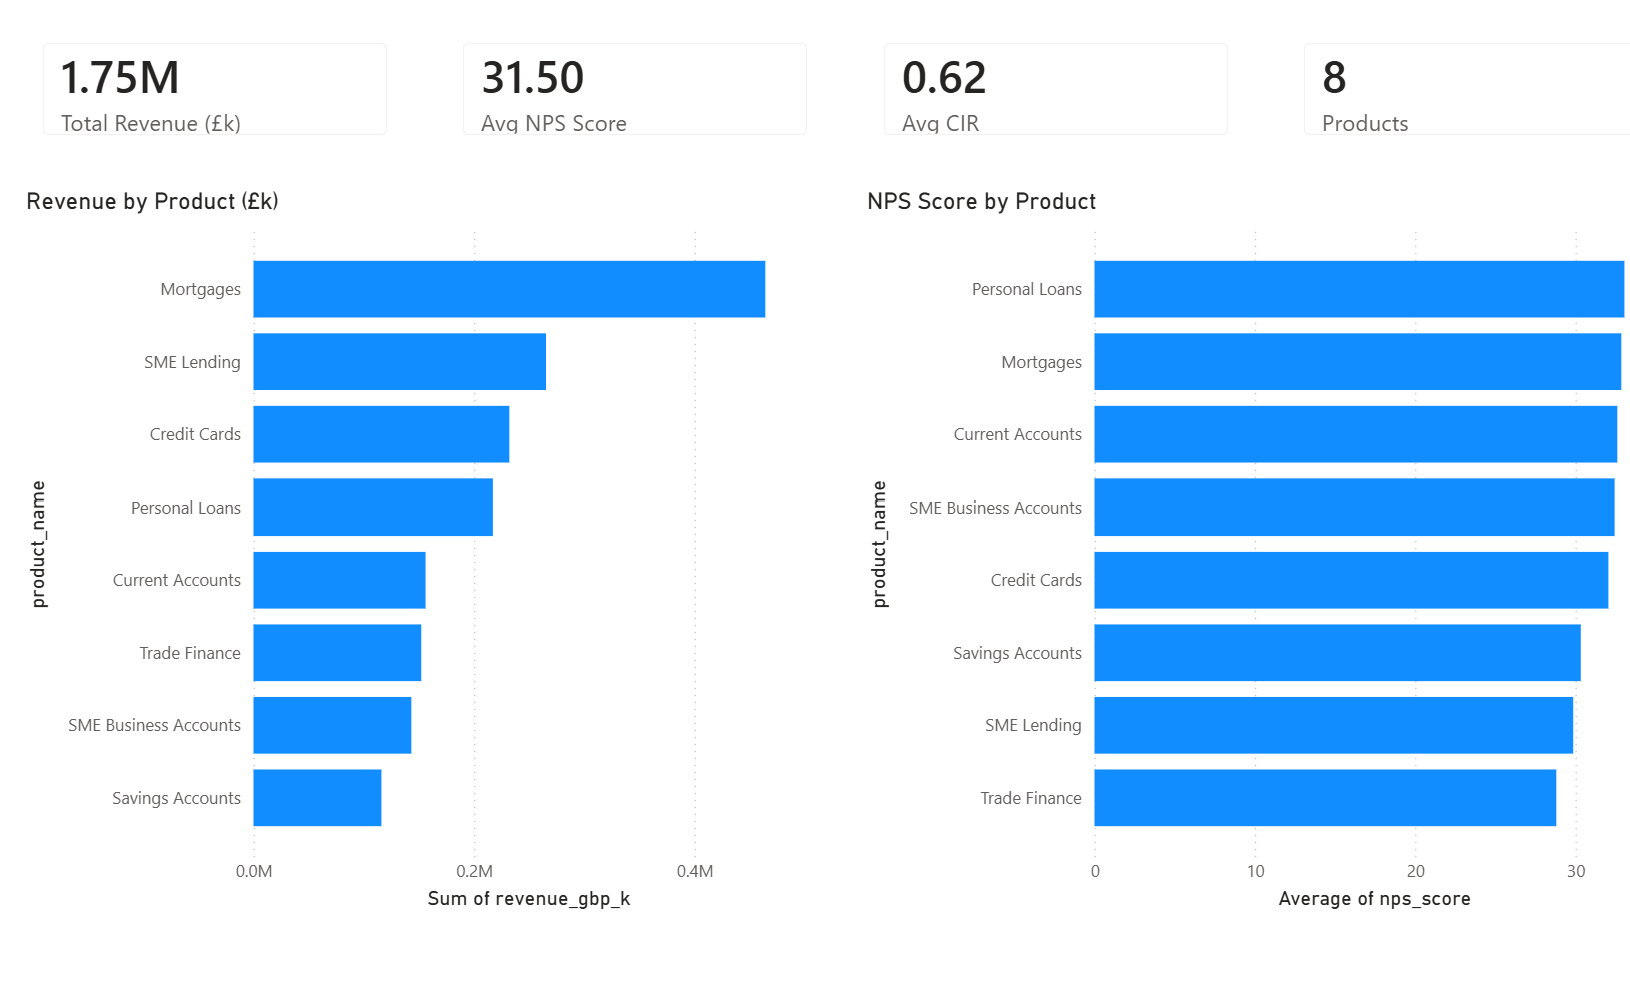

Layout of this report page (visuals, bound fields, positions):
{"tool":"powerbi","page":{"name":"Retail Banking","canvas":[1280,720],"ordinal":1},"visuals":[{"type":"cardVisual","fields":{"Data":["Sum(rb_product_revenue.revenue_gbp_k)"]},"box":[20,20,280,100],"z":0},{"type":"cardVisual","fields":{"Data":["Avg(rb_product_revenue.nps_score)"]},"box":[320,20,280,100],"z":1},{"type":"cardVisual","fields":{"Data":["Avg(rb_product_revenue.cost_income_ratio)"]},"box":[620,20,280,100],"z":2},{"type":"cardVisual","fields":{"Data":["Count(rb_product_revenue.product_name)"]},"box":[920,20,280,100],"z":3},{"type":"clusteredBarChart","title":"Revenue by Product (£k)","fields":{"Category":["rb_product_revenue.product_name"],"Y":["Sum(rb_product_revenue.revenue_gbp_k)"]},"box":[20,140,580.3,520],"z":4},{"type":"clusteredBarChart","title":"NPS Score by Product","fields":{"Category":["rb_product_revenue.product_name"],"Y":["Avg(rb_product_revenue.nps_score)"]},"box":[620.1,140,580.3,520],"z":5}]}

Visuals, with their boxes on the page's 1280x720 design canvas (x1, y1, x2, y2). These are canvas units, not pixel positions in the 1630x998 screenshot, which may show the page scaled, cropped or inside an application window:
cardVisual - Sum(rb_product_revenue.revenue_gbp_k): Rect(20, 20, 300, 120)
cardVisual - Avg(rb_product_revenue.nps_score): Rect(320, 20, 600, 120)
cardVisual - Avg(rb_product_revenue.cost_income_ratio): Rect(620, 20, 900, 120)
cardVisual - Count(rb_product_revenue.product_name): Rect(920, 20, 1200, 120)
"Revenue by Product (£k)" clusteredBarChart: Rect(20, 140, 600, 660)
"NPS Score by Product" clusteredBarChart: Rect(620, 140, 1200, 660)
